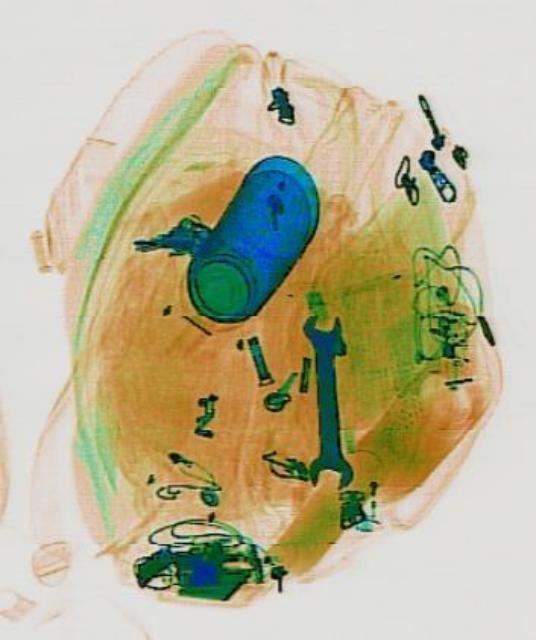Wrench: (298, 312, 351, 488)
